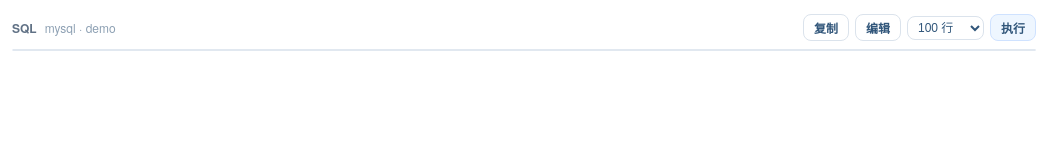
Scenario: SqlCodePanel › executes sql and renders the result table
The image size is (1048, 160).
What coordinates should you click on to do the following:
click the button "执行"
I would click on:
 (1013, 28)
Its box is x1=990 y1=14 x2=1036 y2=41.
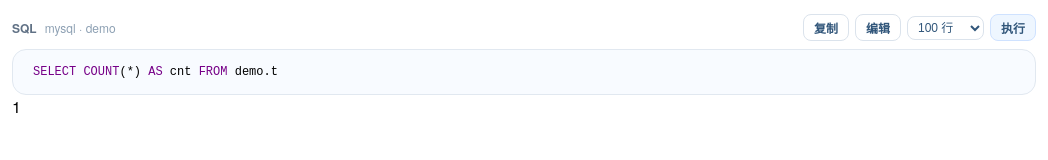
Expected: the text with class "result-table-stub" reads "1", x1=12 y1=95 x2=21 y2=118
